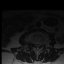CCS_normal: (36, 41, 38, 52)
LFS_severe_stenosis: (40, 41, 42, 48)
LLS_stenosis: (38, 42, 40, 49)
RFS_severe_stenosis: (32, 41, 34, 49)
RLS_normal: (34, 41, 36, 49)
